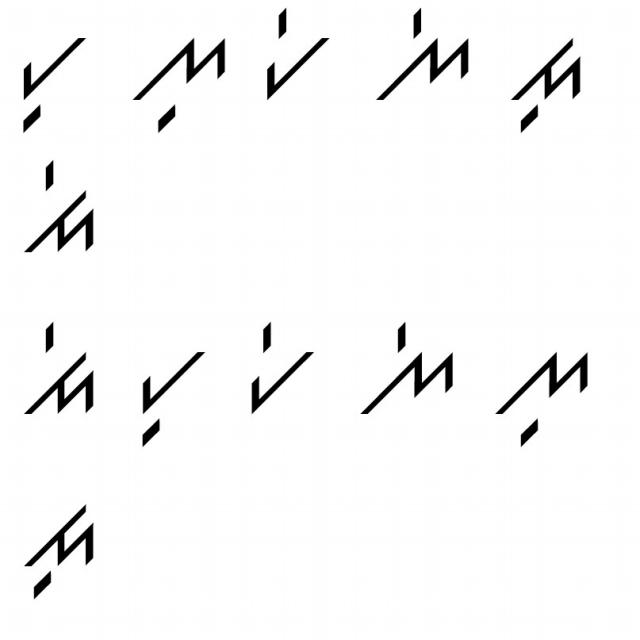de: (14, 311, 109, 420), (12, 156, 101, 260)
du: (18, 490, 106, 600), (512, 32, 586, 139)
ne: (348, 310, 462, 424), (372, 2, 479, 110)
nu: (486, 338, 596, 449), (133, 32, 230, 140)
pe: (243, 316, 321, 419), (260, 7, 334, 102)
pu: (15, 28, 92, 136), (128, 340, 205, 447)
